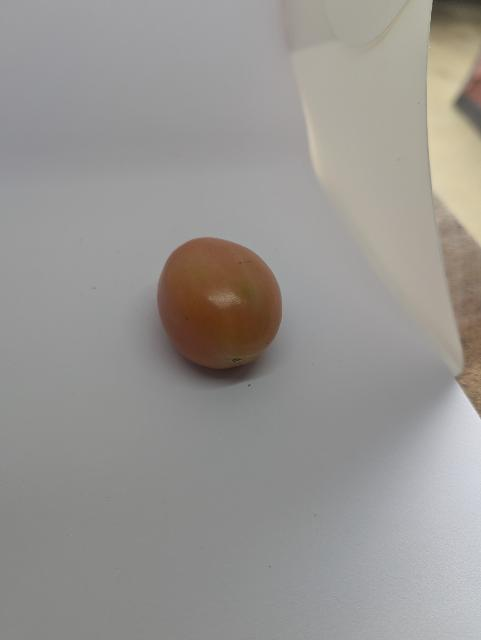turning: (153, 234, 291, 376)
